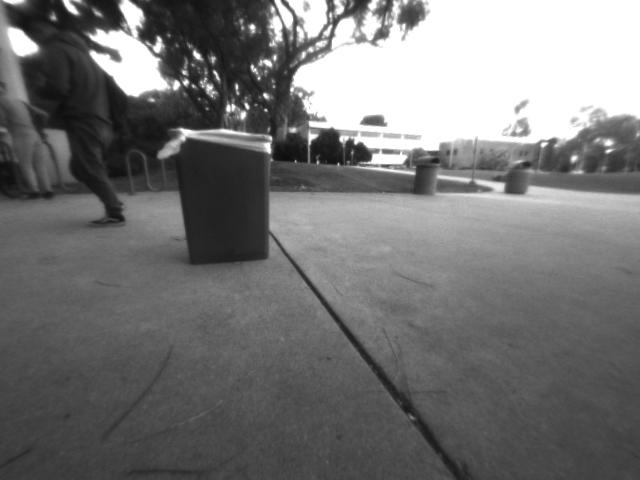trashcan: (169, 122, 281, 272)
